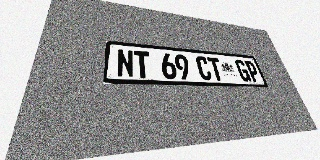6: (160, 53, 178, 79)
9: (174, 54, 192, 80)
C: (195, 56, 213, 80)
G: (234, 59, 252, 82)
N: (117, 49, 134, 78)
P: (244, 60, 262, 82)
T: (134, 50, 151, 78), (207, 57, 225, 81)
